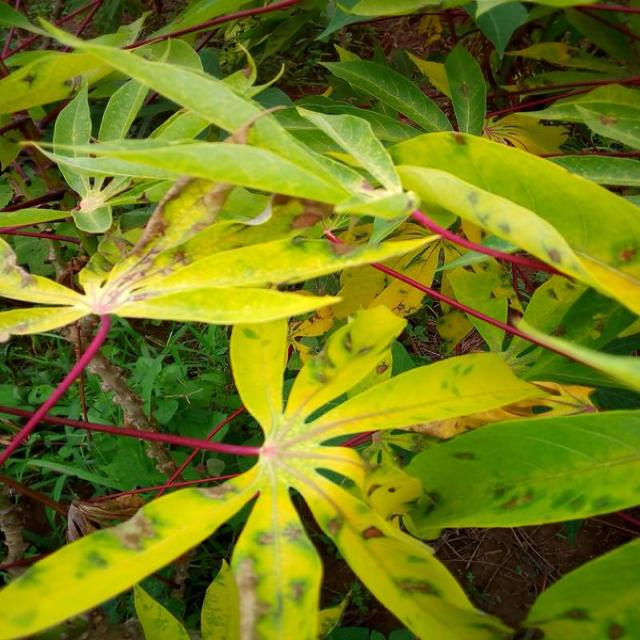cassava leaf: (2, 6, 640, 638), (2, 302, 561, 638), (385, 128, 640, 318)
